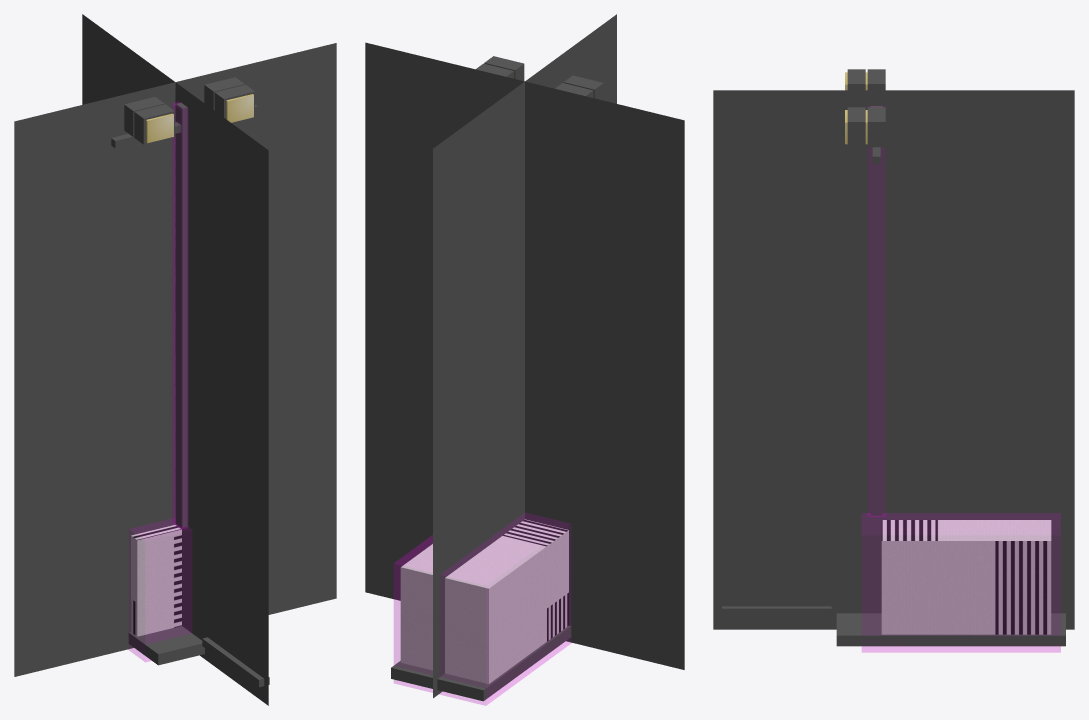
The model's file is lighttower_blank_mid.dae.
3 renders of one model, left to right at view 1: azimuth 30°, elevation 25°; view 2: azimuth 150°, elevation 25°; view 3: azimuth 270°, elevation 25°, orthographic. The views are drawn at different scales.
Parts seen in each view (by area): view 1: lighttower_blank_mid_a50, lighttower_blank_mid_a800, Colmesh_body-1, Colmesh_mast-1, lighttower_blank_mid_a200; view 2: lighttower_blank_mid_a50, lighttower_blank_mid_a800, Colmesh_body-1, lighttower_blank_mid_a200; view 3: lighttower_blank_mid_a50, lighttower_blank_mid_a800, Colmesh_body-1, lighttower_blank_mid_a200, Colmesh_mast-1.
Part boxes in pixels (x1,y1,x2,y2): lighttower_blank_mid_a50: [14, 14, 336, 705]; lighttower_blank_mid_a800: [111, 77, 269, 687]; Colmesh_body-1: [128, 519, 191, 661]; Colmesh_mast-1: [172, 102, 188, 528]; lighttower_blank_mid_a200: [124, 85, 254, 635]; lighttower_blank_mid_a50: [365, 14, 684, 698]; lighttower_blank_mid_a800: [391, 56, 603, 701]; Colmesh_body-1: [394, 513, 570, 705]; lighttower_blank_mid_a200: [400, 56, 603, 683]; lighttower_blank_mid_a50: [713, 90, 1074, 629]; lighttower_blank_mid_a800: [722, 69, 1065, 646]; Colmesh_body-1: [862, 513, 1060, 652]; lighttower_blank_mid_a200: [847, 69, 1051, 634]; Colmesh_mast-1: [868, 106, 885, 516].
Size of the model in its own units: 3.62 by 3.62 by 5.97.
4 materials, 2 textured.
